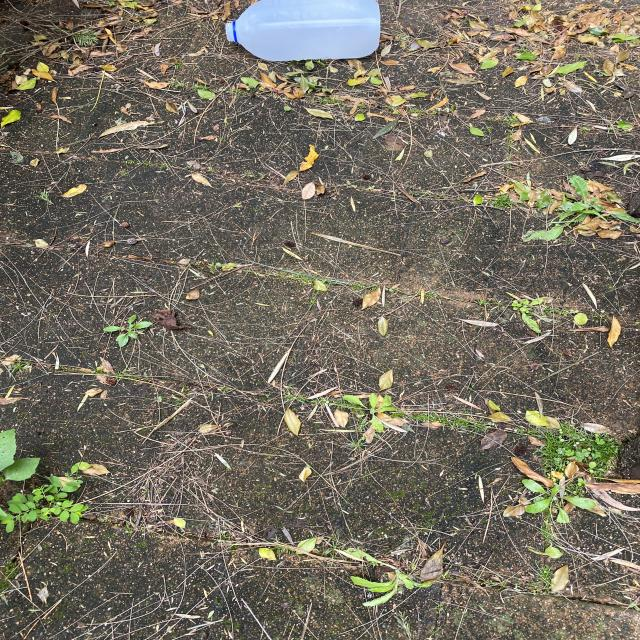bottle: (226, 0, 380, 61)
